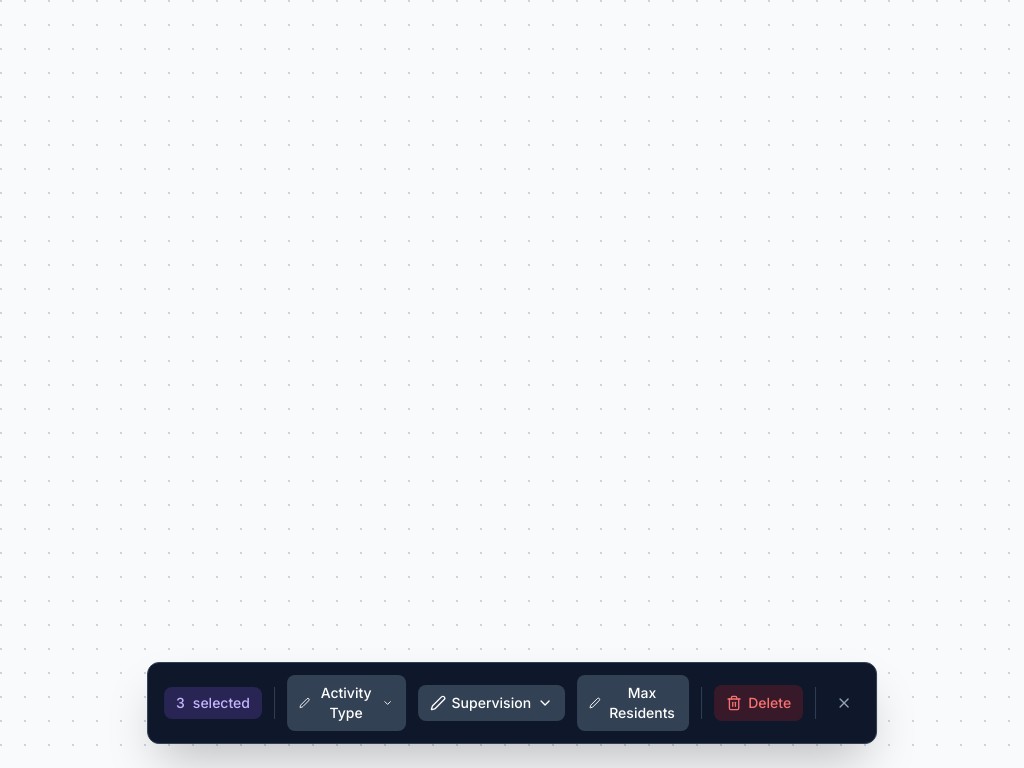
Test: BulkActionsToolbar › Max Residents Action › opens modal when clicked
Click the button "Max Residents": x=633, y=703 [577,675,690,731]
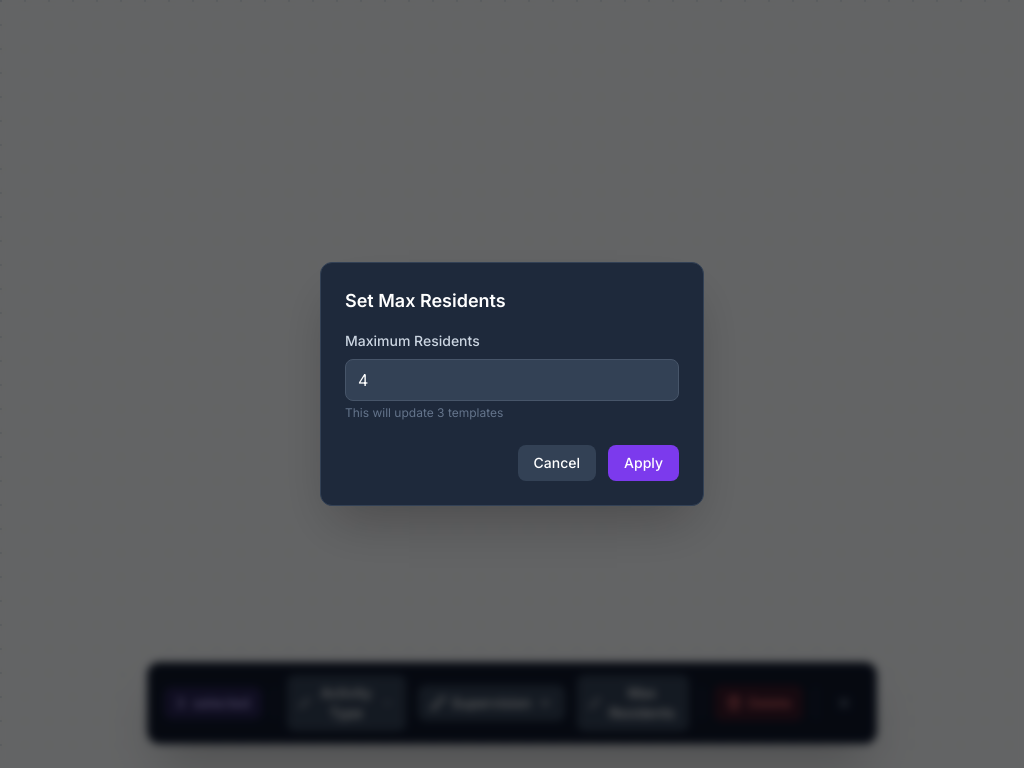
Expected: the heading "Set Max Residents" is shown, [345,290,506,311]
